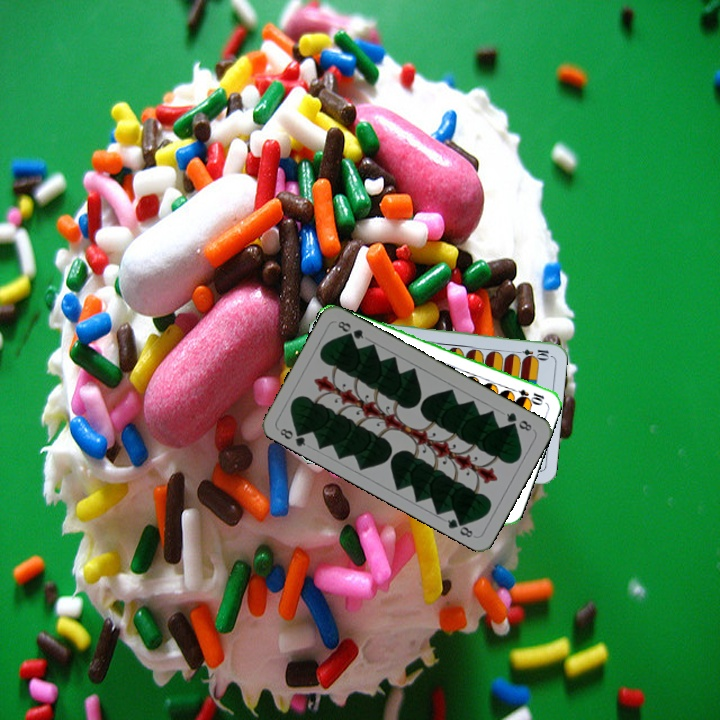E10: (507, 384, 547, 406), (511, 345, 551, 360)
G8: (274, 424, 308, 449), (502, 408, 534, 434)
